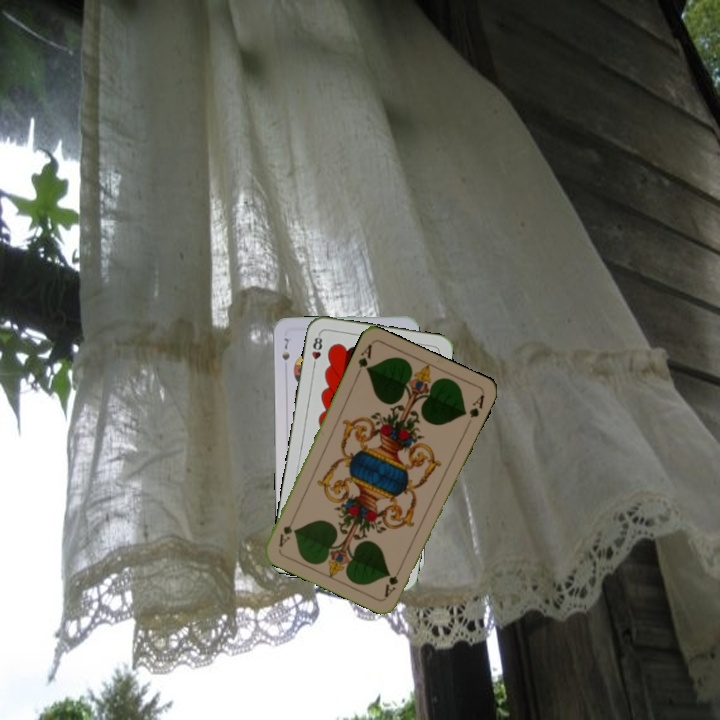GA: (380, 562, 405, 600), (352, 340, 374, 379)
H8: (308, 330, 325, 371)
S7: (278, 333, 293, 363)
